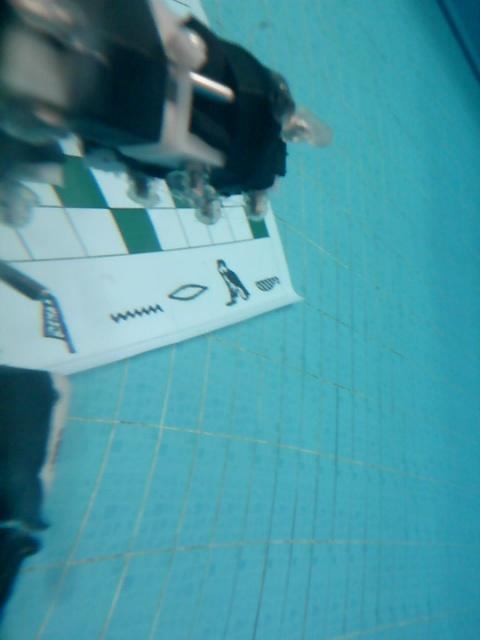Basket: (255, 274, 280, 293)
Mouth: (167, 283, 209, 304)
Owl: (213, 259, 251, 308)
Reed: (40, 287, 77, 357)
Water: (109, 305, 164, 325)
